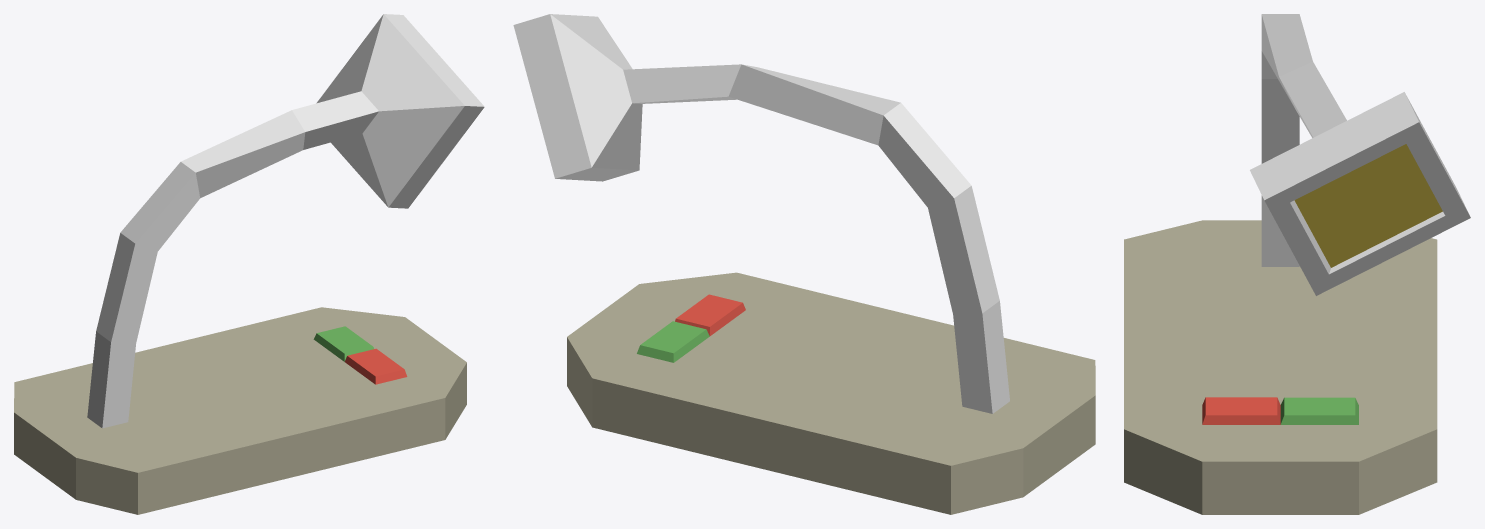
Rendered from Desk Lamp.fbx.
The picture shows the model from 3 angles, left to right: view 1: azimuth 30°, elevation 25°; view 2: azimuth 150°, elevation 25°; view 3: azimuth 270°, elevation 25°; orthographic projection. The views are drawn at different scales.
Parts seen in each view (by area): view 1: Padestal, Lamp; view 2: Padestal, Lamp; view 3: Padestal, Lamp.
Part boxes in pixels (x1,y1,x2,y2): Padestal: [14, 307, 466, 514]; Lamp: [87, 14, 484, 428]; Padestal: [567, 272, 1095, 514]; Lamp: [513, 14, 1009, 413]; Padestal: [1124, 220, 1437, 514]; Lamp: [1250, 14, 1470, 295].
Bounding box in the file's own units: 0.3108 × 0.4161 × 0.5669.
